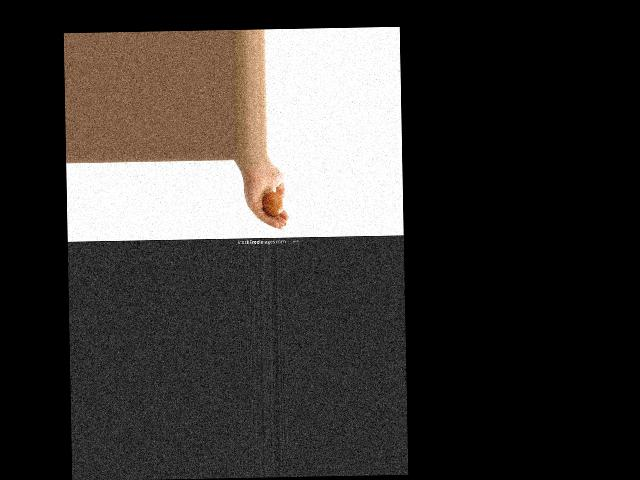egg: (262, 191, 283, 218)
